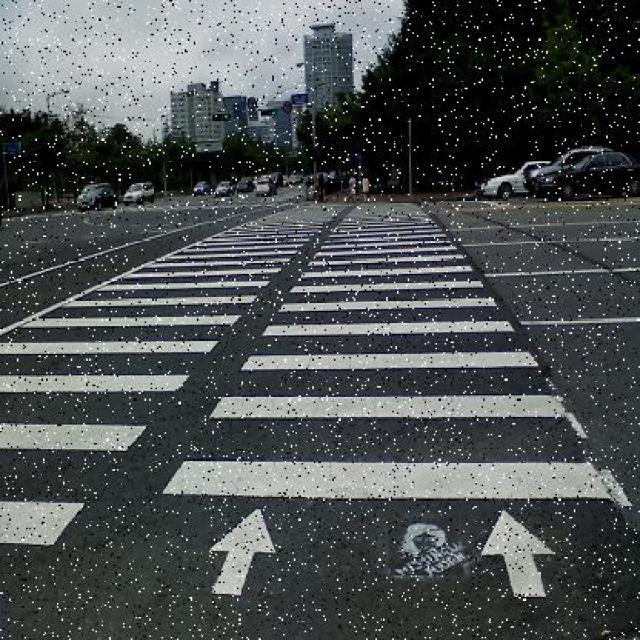crosswalk: (166, 203, 613, 500), (0, 205, 351, 545)
